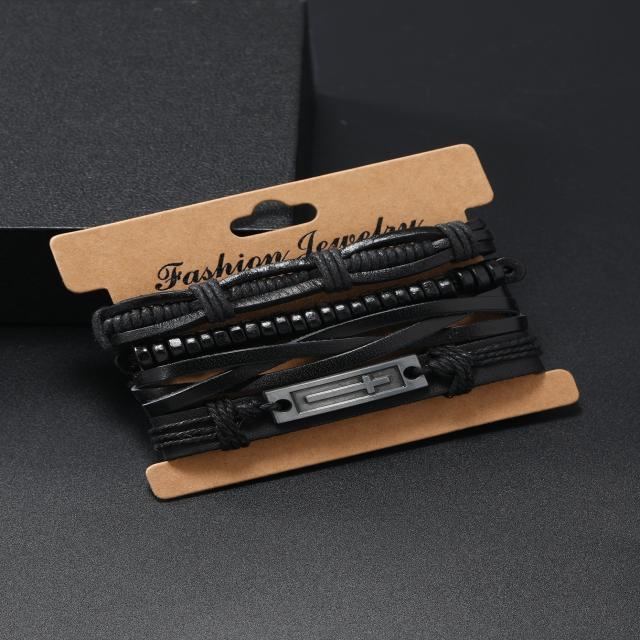bracelet: (19, 175, 640, 536)
